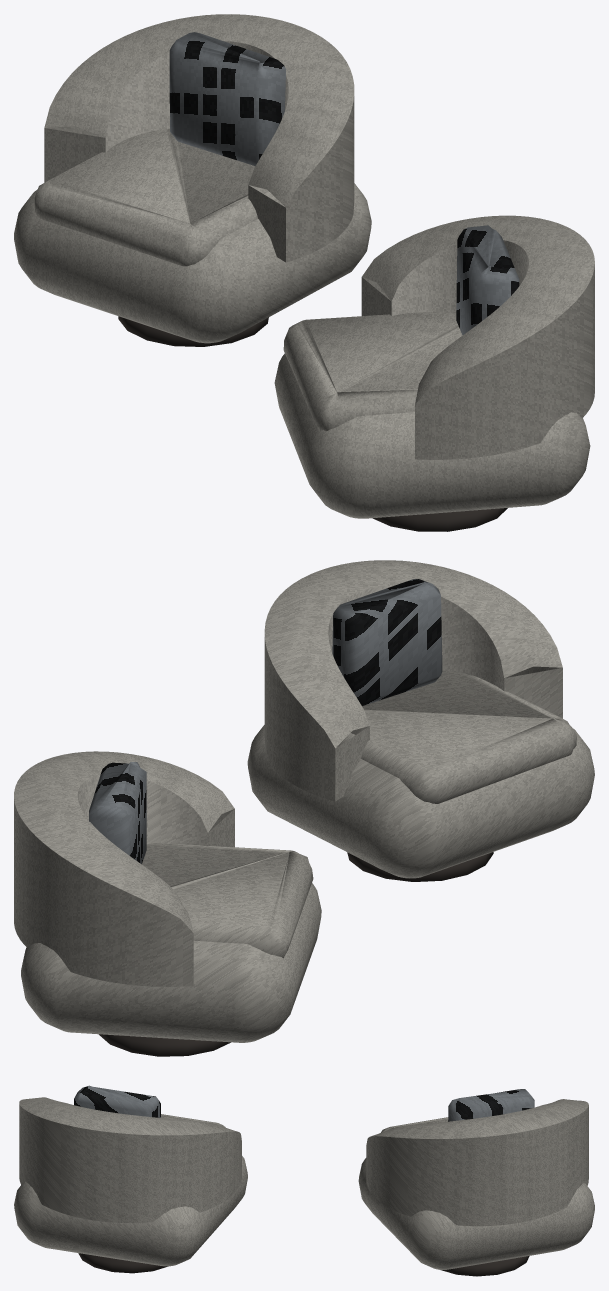
3 renders of one model, top to bottom at view 1: azimuth 30°, elevation 25°; view 2: azimuth 150°, elevation 25°; view 3: azimuth 270°, elevation 25°, orthographic. The views are drawn at different scales.
Parts seen in each view (by area): view 1: root; view 2: root; view 3: root.
Part boxes in pixels (x1,y1,x2,y2): root: (14, 14, 594, 531); root: (14, 560, 594, 1056); root: (14, 1085, 594, 1276).
Bounding box in the file's own units: 1 × 0.7924 × 2.4.
4 materials, 3 textured.
